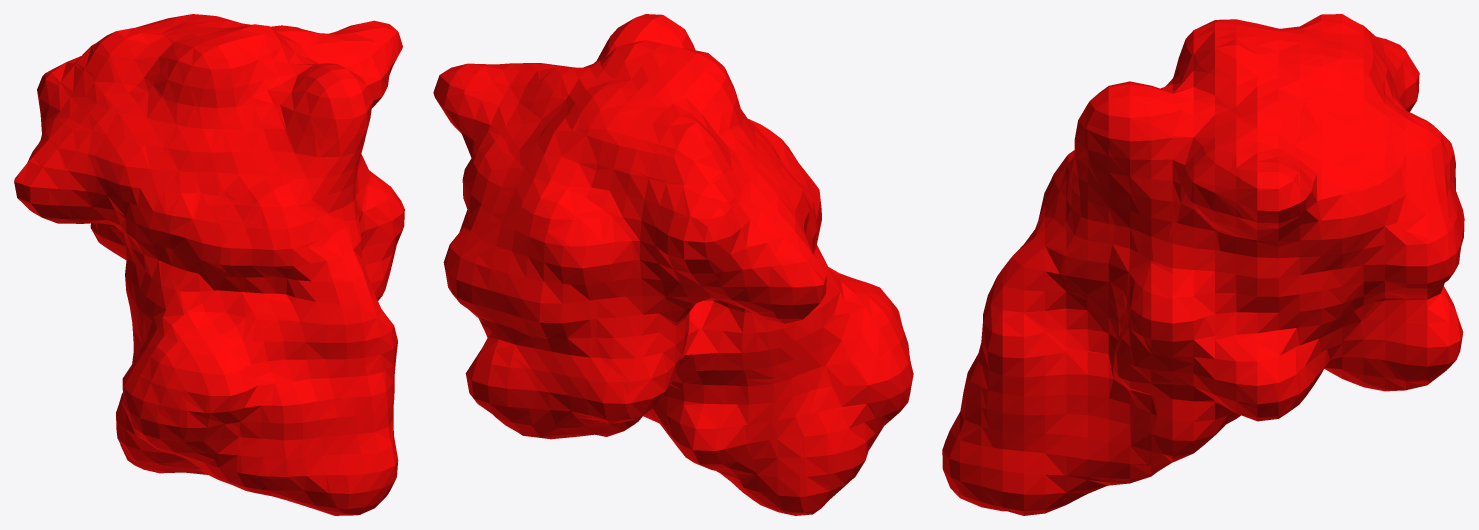
Rendered from glgC_coarse.dae.
3 views of the same model, side by side, from view 1: azimuth 30°, elevation 25°; view 2: azimuth 150°, elevation 25°; view 3: azimuth 270°, elevation 25° (orthographic). The views are drawn at different scales.
Visible parts, largest first — view 1: glgC; view 2: glgC; view 3: glgC.
Boxes of the visible parts, box(x1,y1,x2,y2) form: glgC: box(14, 14, 404, 515); glgC: box(433, 14, 913, 515); glgC: box(942, 14, 1464, 515).
Size of the model in its own units: 61.04 by 65.41 by 66.4.
